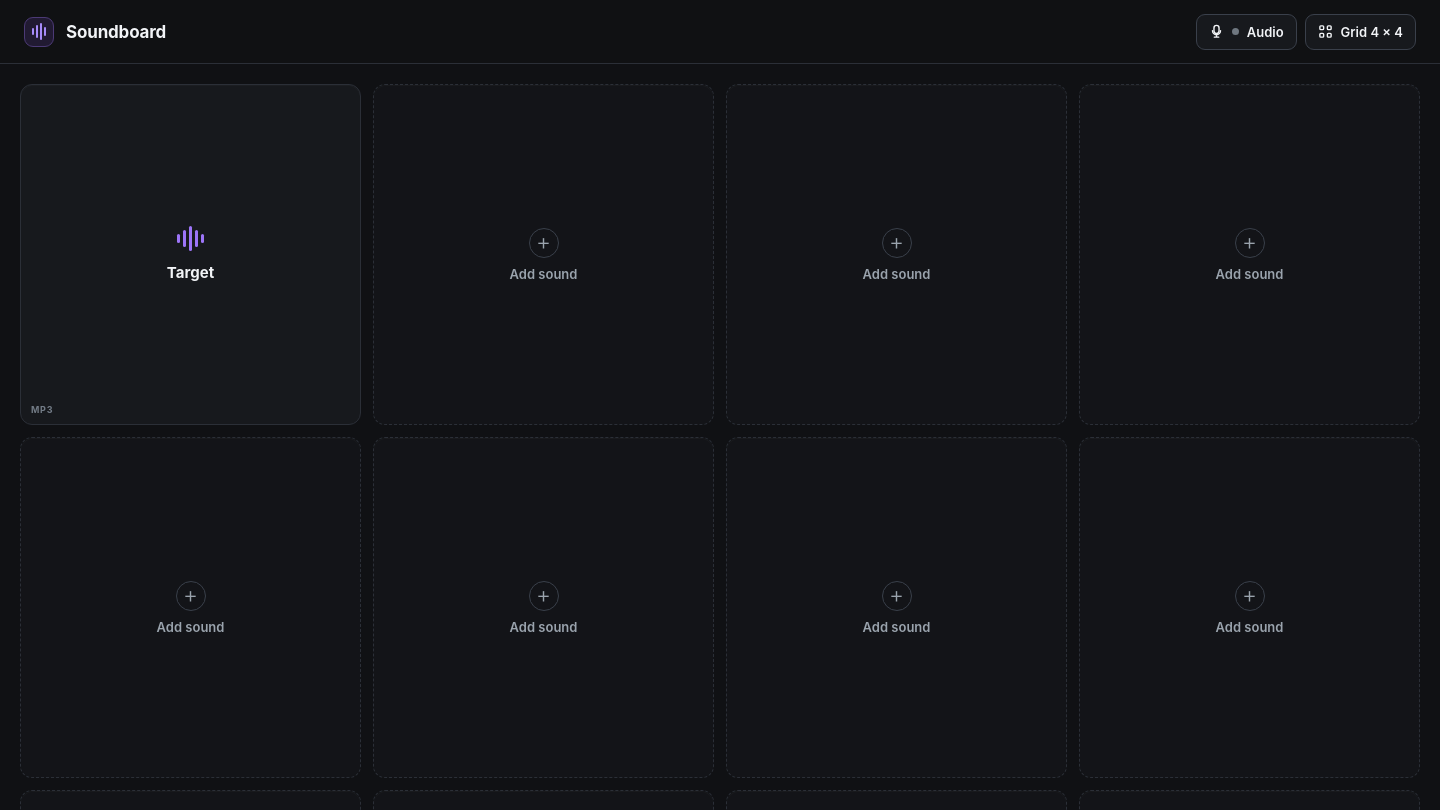
Test: Soundboard › renders backend conflict details exactly instead of inferring stale state
Right-click the button with aria-label "Row 1, column 1, Target" at (190, 273), box [20, 84, 361, 425]
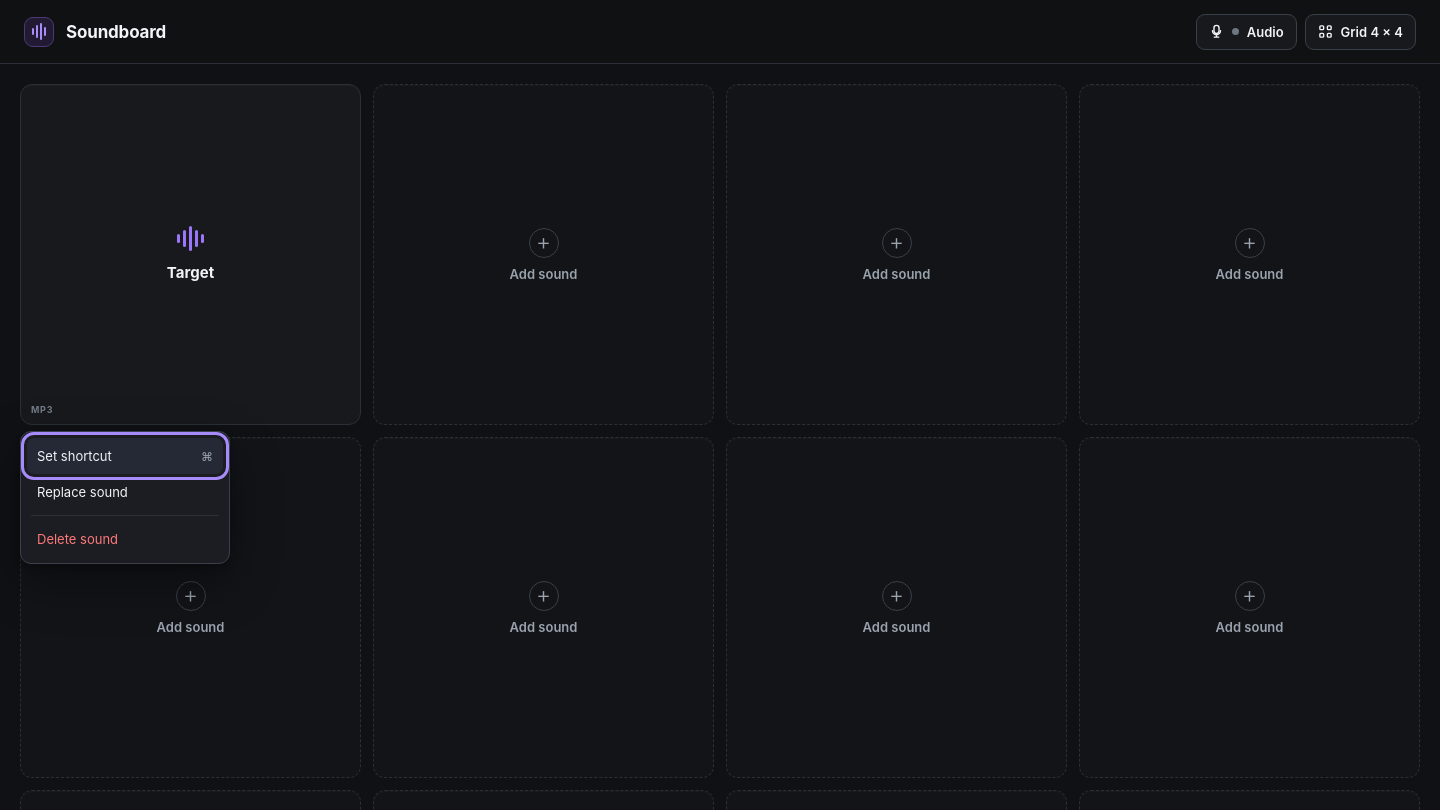
Click the menu item "Set shortcut ⌘" at (125, 456), box [27, 438, 223, 474]
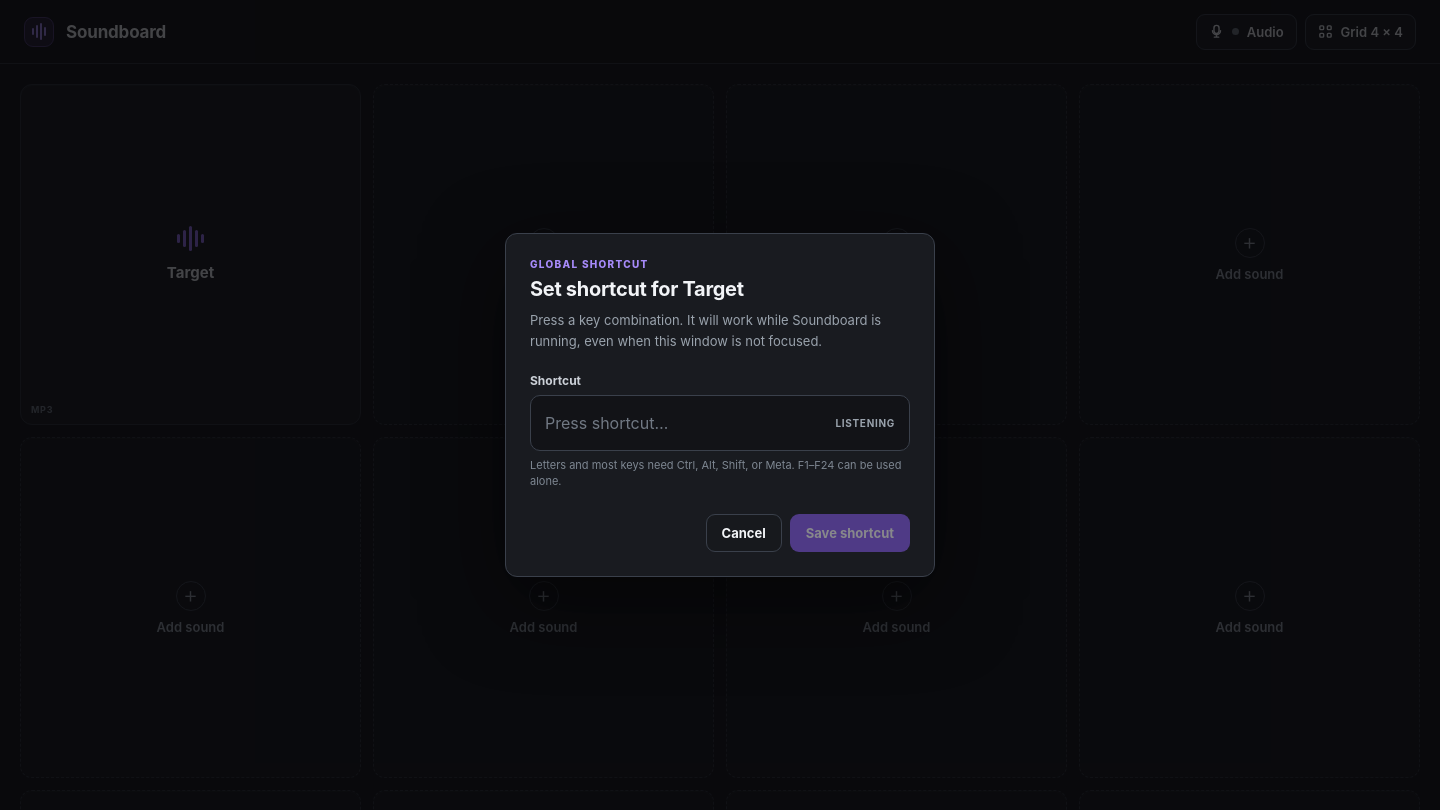
Press f in the button "Press shortcut… Listening", box [530, 395, 910, 451]
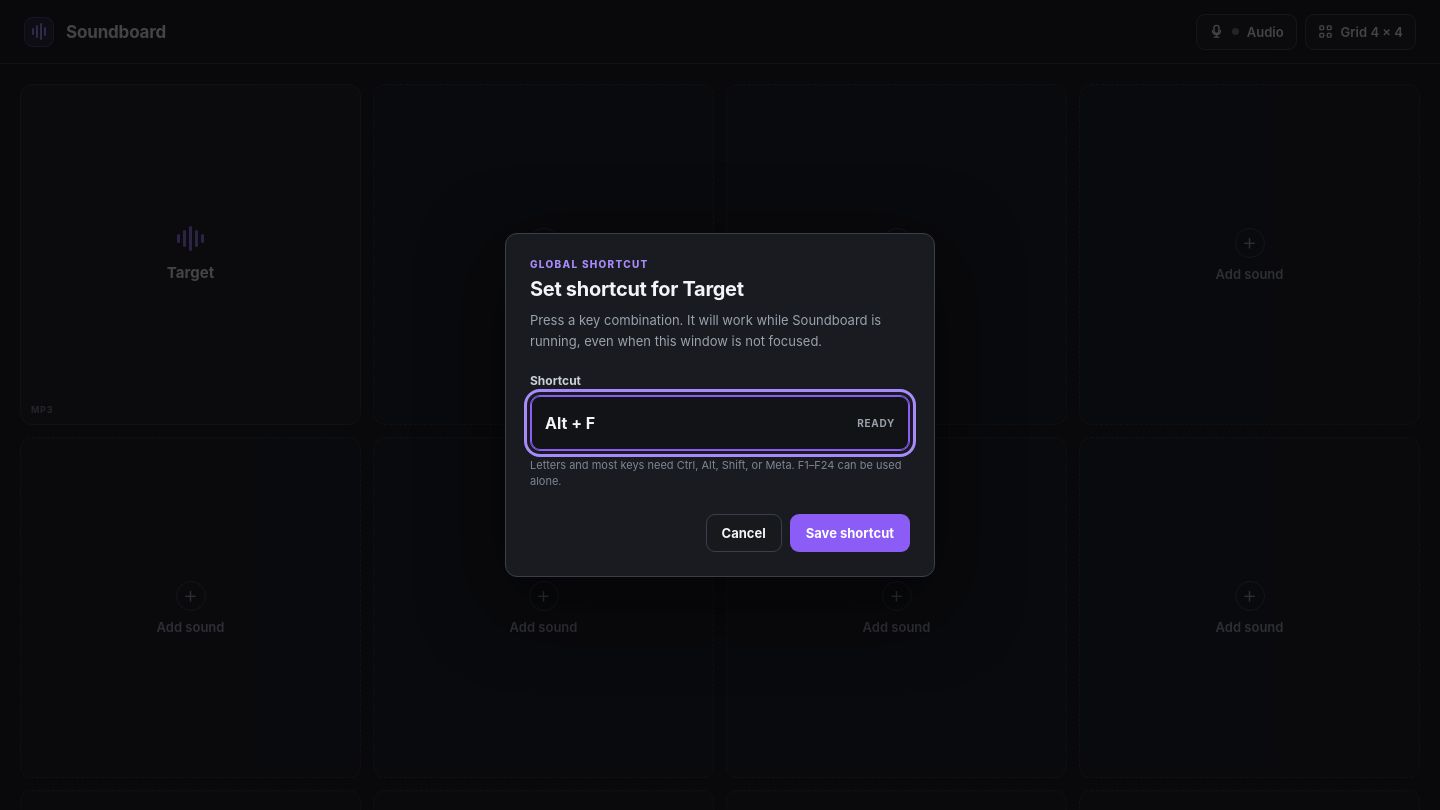
Click the button "Save shortcut" at (850, 533), box [790, 514, 910, 552]
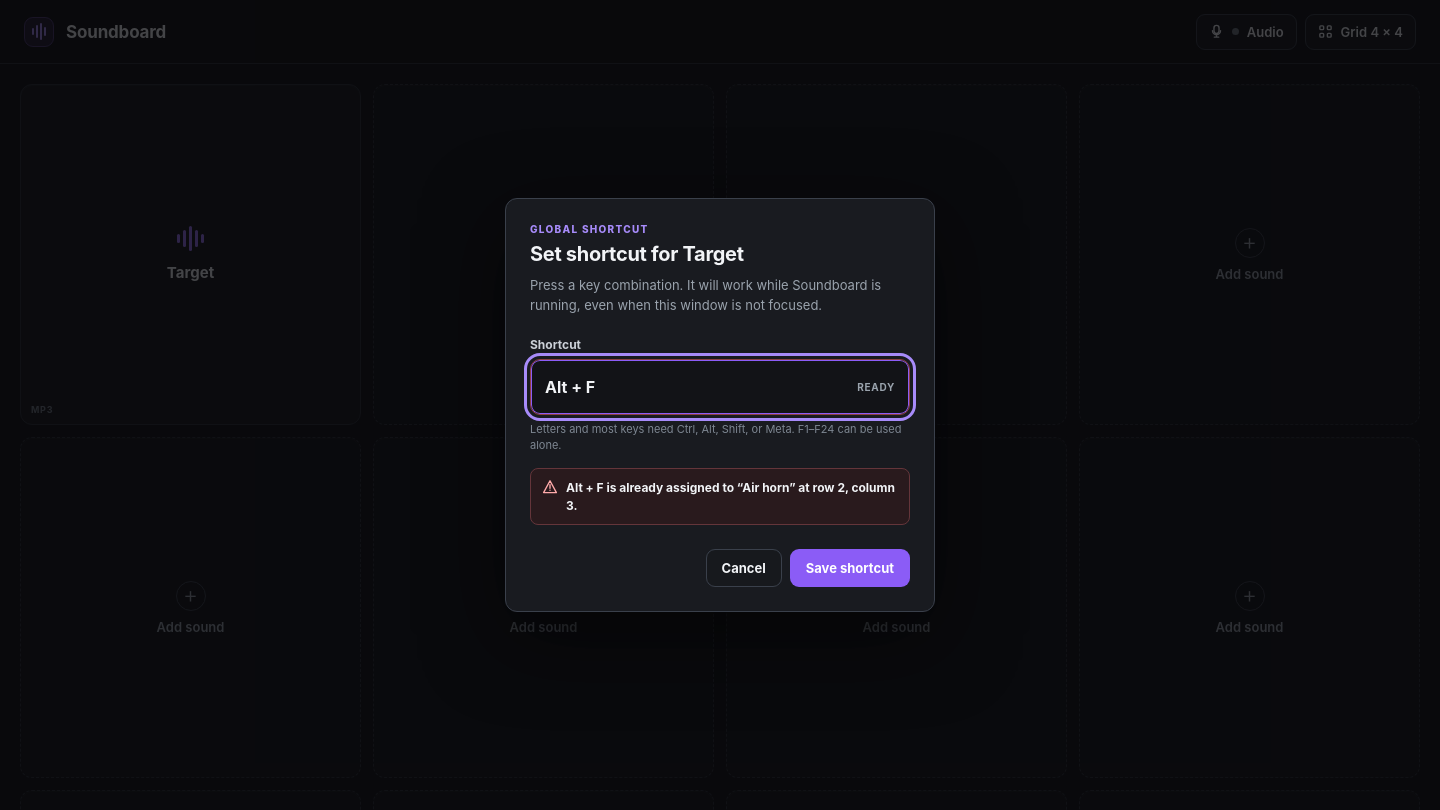
Now the text "Alt + F is already assigned to “Air horn” at row 2, column 3." is shown, box [566, 479, 898, 514]
